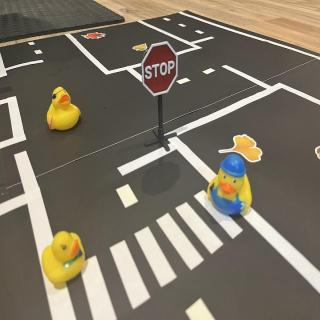duck_regular: (42, 230, 88, 286)
duck_specialty: (207, 153, 255, 219), (47, 85, 84, 133)
road_crosswalk: (75, 186, 251, 320)
sign_stop: (143, 42, 179, 97)
